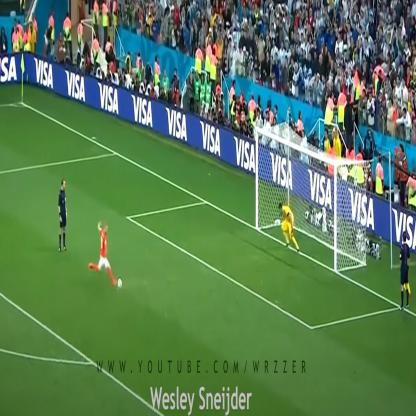penalty kick: (55, 135, 365, 326)
